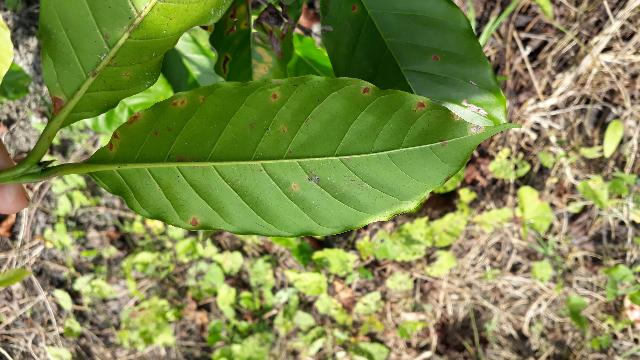rust_level_1: (84, 72, 518, 237)
